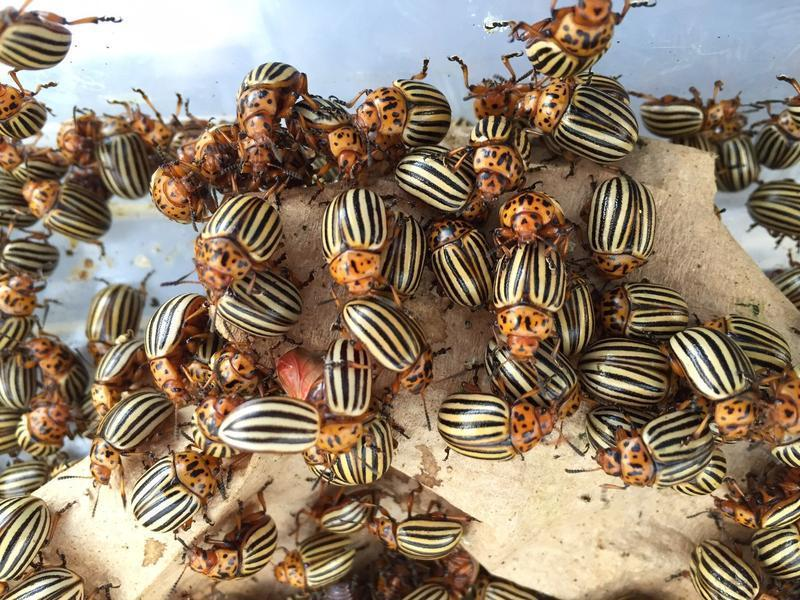hrosc: (516, 70, 658, 170), (662, 320, 766, 449), (340, 282, 446, 402), (177, 186, 282, 293), (425, 386, 546, 471), (80, 395, 189, 489), (584, 169, 658, 298), (218, 393, 326, 461), (91, 103, 159, 209), (273, 529, 366, 597), (374, 510, 495, 560), (138, 281, 207, 368)
